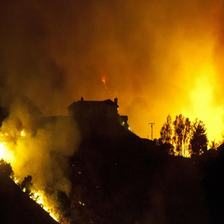fire: (1, 113, 69, 223)
